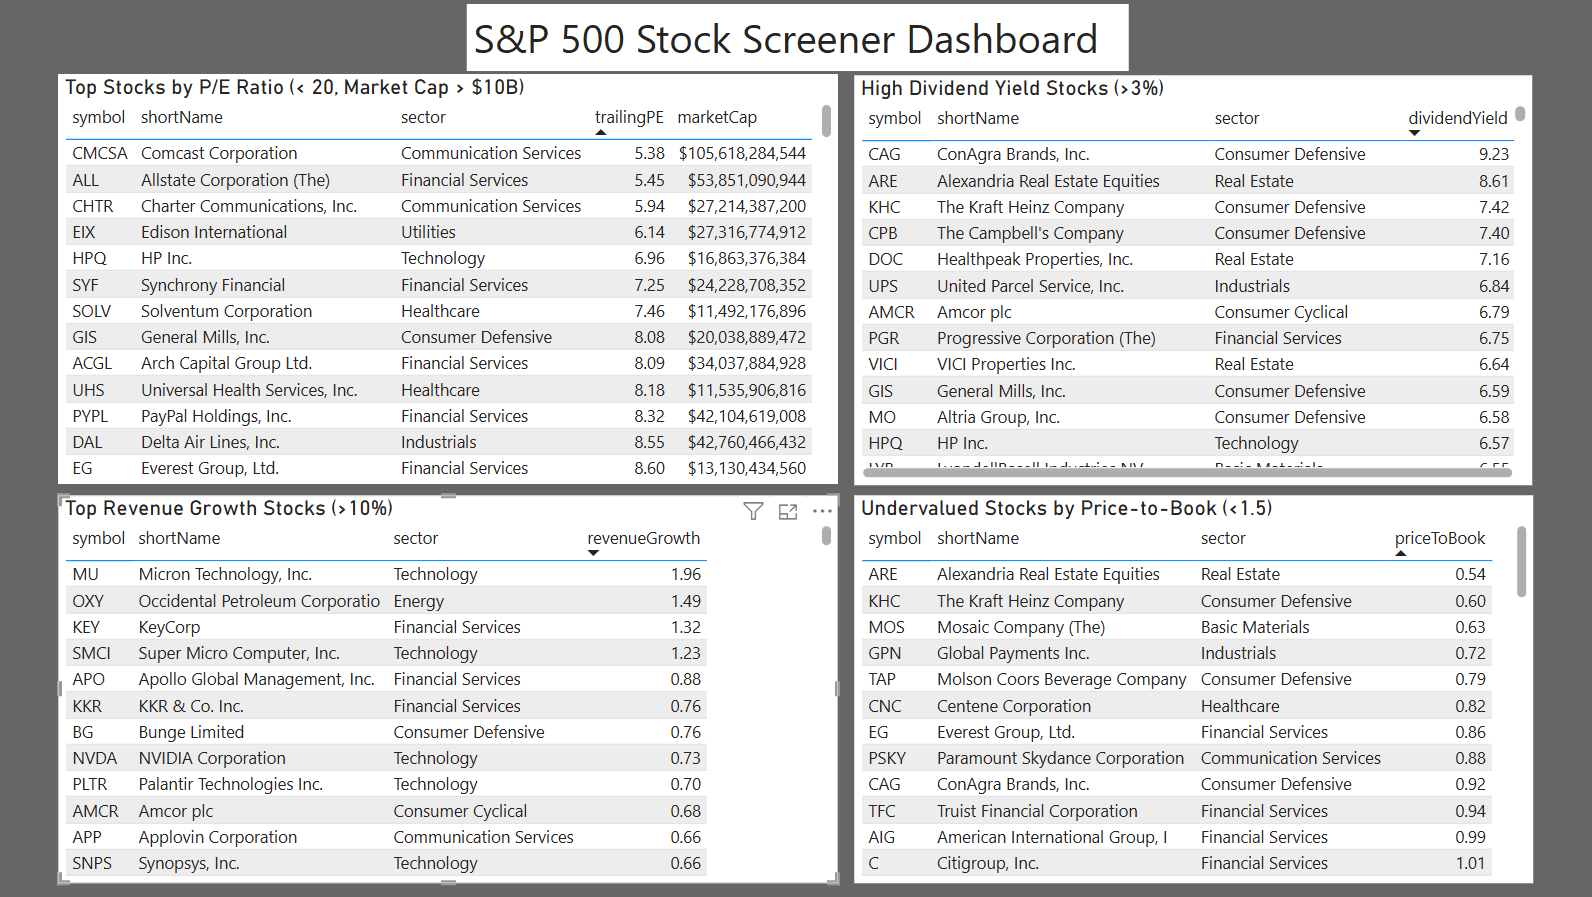

The page's visual inventory and layout, read from the dashboard file:
{"tool":"powerbi","page":{"name":"Page 1","canvas":[1280,720],"ordinal":0},"visuals":[{"type":"tableEx","title":"Top Stocks by P/E Ratio (< 20, Market Cap > $10B)","fields":{"Values":["stocks.symbol","stocks.shortName","stocks.sector","stocks.trailingPE","stocks.marketCap"]},"box":[47.7,60,624.6,328.5],"z":0},{"type":"tableEx","title":"High Dividend Yield Stocks (>3%)","fields":{"Values":["stocks.symbol","stocks.shortName","stocks.sector","stocks.dividendYield"]},"box":[685.1,60.6,542,328],"z":1000},{"type":"tableEx","title":"Top Revenue Growth Stocks (>10%)","fields":{"Values":["stocks.symbol","stocks.shortName","stocks.sector","stocks.revenueGrowth"]},"box":[48.5,396.9,623.8,310.8],"z":2000},{"type":"tableEx","title":"Undervalued Stocks by Price-to-Book (<1.5)","fields":{"Values":["stocks.symbol","stocks.shortName","stocks.sector","stocks.priceToBook"]},"box":[685.4,396.9,542.3,310.8],"z":3000},{"type":"textbox","box":[374.6,4.1,529.7,53.5],"z":4000}]}

Visuals, with their boxes in screenshot pixels (x1, y1, x2, y2), scaled from the page's 1280x720 canvas onto the 1592x897 screenshot:
"Top Stocks by P/E Ratio (< 20, Market Cap > $10B)" tableEx: bbox(59, 75, 836, 484)
"High Dividend Yield Stocks (>3%)" tableEx: bbox(852, 75, 1526, 484)
"Top Revenue Growth Stocks (>10%)" tableEx: bbox(60, 494, 836, 882)
"Undervalued Stocks by Price-to-Book (<1.5)" tableEx: bbox(852, 494, 1527, 882)
textbox: bbox(466, 5, 1125, 72)
